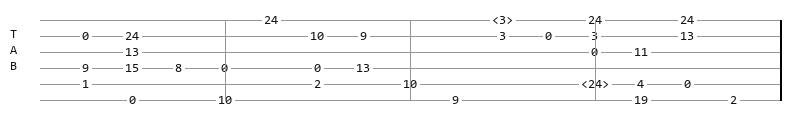0: (82, 30, 93, 42), (129, 94, 140, 106), (221, 62, 232, 74), (314, 62, 325, 74), (545, 30, 556, 42), (591, 46, 602, 58), (684, 78, 695, 90)
1: (82, 78, 93, 90)
10: (218, 94, 236, 106), (310, 30, 328, 42), (403, 78, 421, 90)
11: (634, 46, 652, 58)
13: (125, 46, 143, 58), (356, 62, 374, 74), (680, 30, 698, 42)
15: (125, 62, 143, 74)
19: (634, 94, 652, 106)
2: (314, 78, 325, 90), (730, 94, 741, 106)
24: (125, 30, 143, 42), (264, 14, 282, 26), (588, 14, 606, 26), (680, 14, 698, 26)
3: (499, 30, 510, 42), (591, 30, 602, 42)
4: (637, 78, 648, 90)
8: (175, 62, 186, 74)
9: (82, 62, 93, 74), (360, 30, 371, 42), (452, 94, 463, 106)
harmonic: (581, 78, 613, 90), (492, 14, 517, 26)
